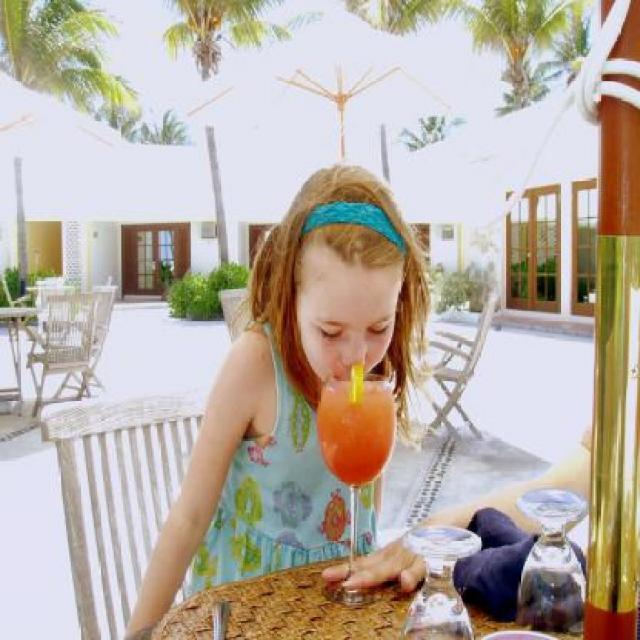Juice: (317, 366, 406, 523)
